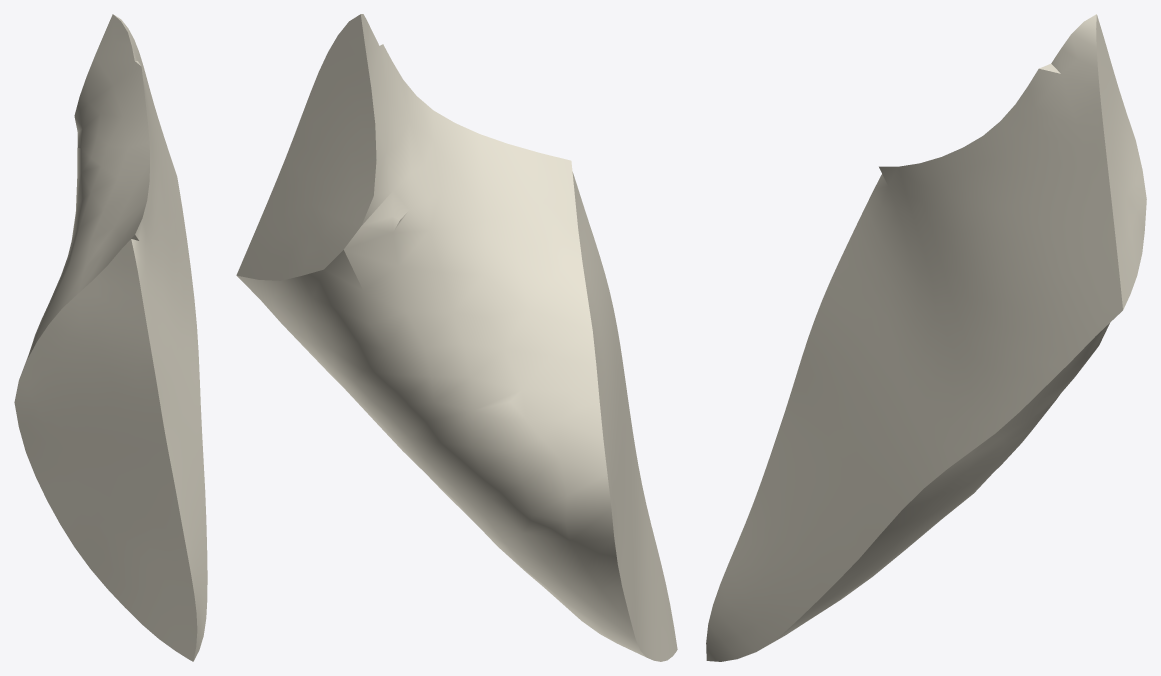
The model's file is fma16334_mm2341m.glb.
3 views of the same model, side by side, from view 1: azimuth 30°, elevation 25°; view 2: azimuth 150°, elevation 25°; view 3: azimuth 270°, elevation 25° (orthographic). The views are drawn at different scales.
Parts seen in each view (by area): view 1: FMA16334_MM2341M; view 2: FMA16334_MM2341M; view 3: FMA16334_MM2341M.
Boxes of the visible parts, bbox=[...] form: FMA16334_MM2341M: bbox=[14, 14, 207, 661]; FMA16334_MM2341M: bbox=[236, 14, 677, 661]; FMA16334_MM2341M: bbox=[706, 14, 1146, 661].
Size of the model in its own units: 0.00521 by 0.0125 by 0.00722.
